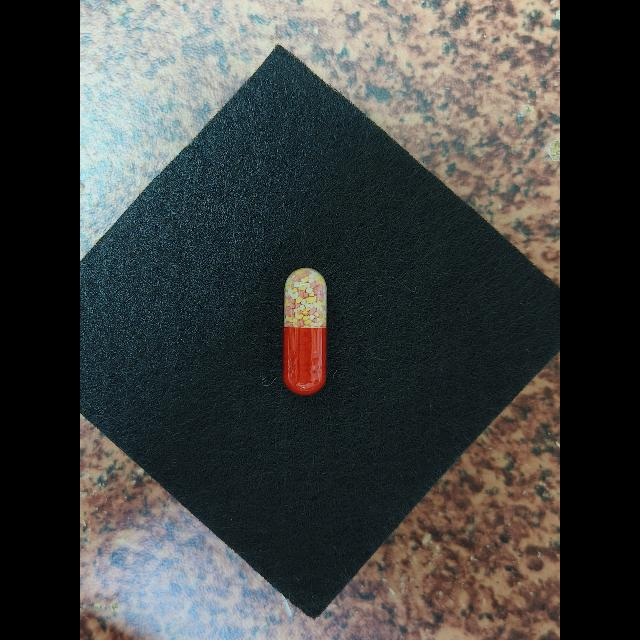Intact Capsule: (283, 268, 327, 395)
